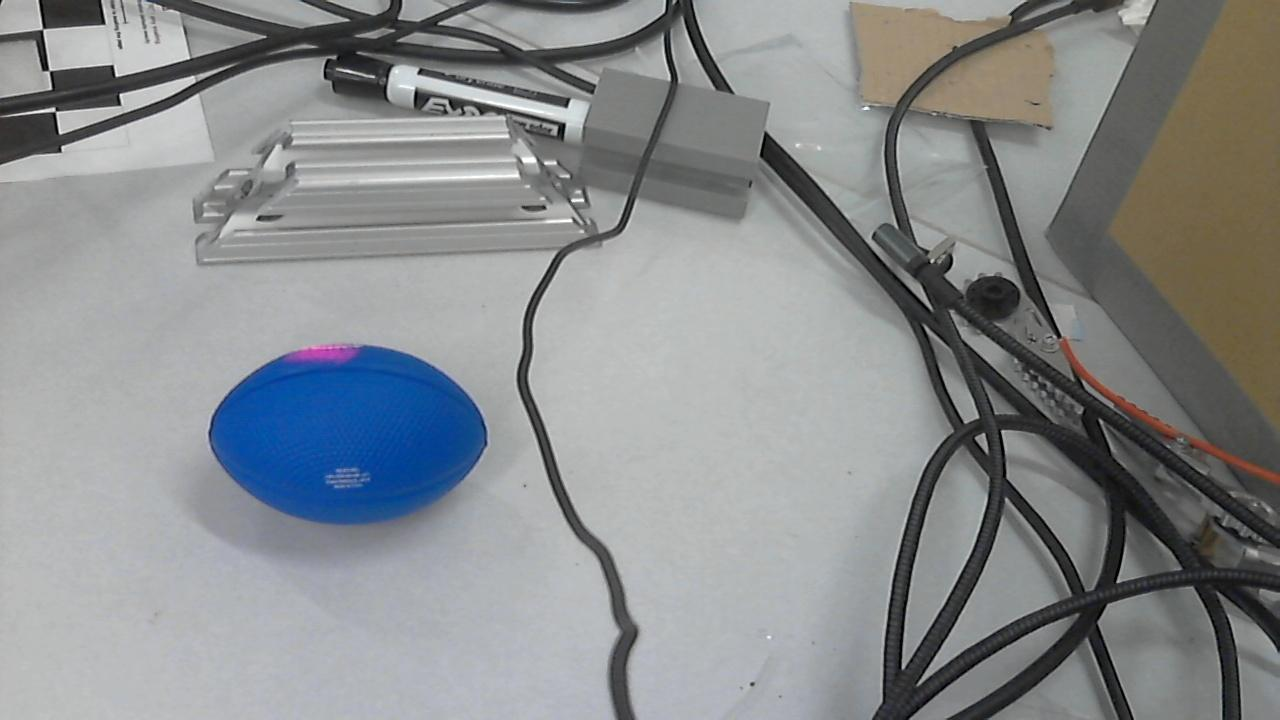Object toy football - Material foam - Color blue - Pdfname VT1ffZoLOnKv: (268, 338, 381, 383)
